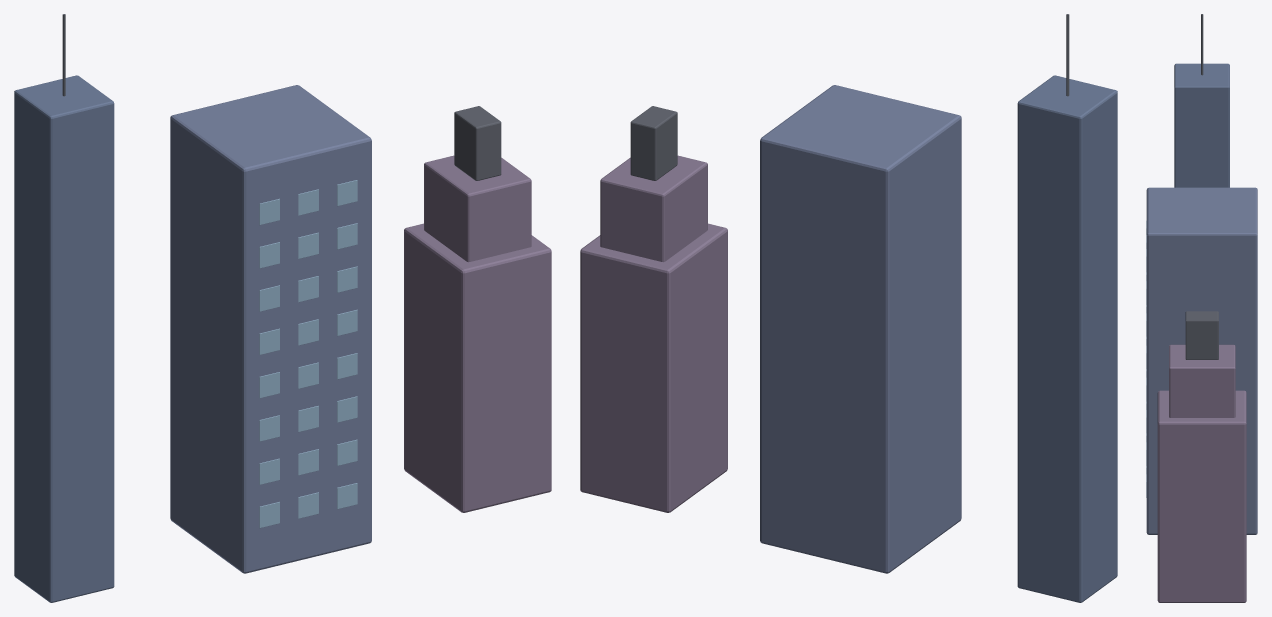
File: buildings.glb
3 views of the same model, side by side, from view 1: azimuth 30°, elevation 25°; view 2: azimuth 150°, elevation 25°; view 3: azimuth 270°, elevation 25° (orthographic). The views are drawn at different scales.
Visible parts, largest first — view 1: bld_a, bld_c, bld_b; view 2: bld_a, bld_c, bld_b; view 3: bld_b, bld_a, bld_c.
Boxes of the visible parts, x1=… form: bld_a: x1=170, y1=85, x2=371, y2=573; bld_c: x1=14, y1=14, x2=114, y2=602; bld_b: x1=404, y1=106, x2=551, y2=512; bld_a: x1=760, y1=85, x2=961, y2=573; bld_c: x1=1017, y1=14, x2=1117, y2=602; bld_b: x1=580, y1=106, x2=727, y2=512; bld_b: x1=1157, y1=311, x2=1246, y2=602; bld_a: x1=1146, y1=187, x2=1257, y2=534; bld_c: x1=1174, y1=14, x2=1229, y2=187.
Size of the model in its own units: 38 by 42 by 10.05.
